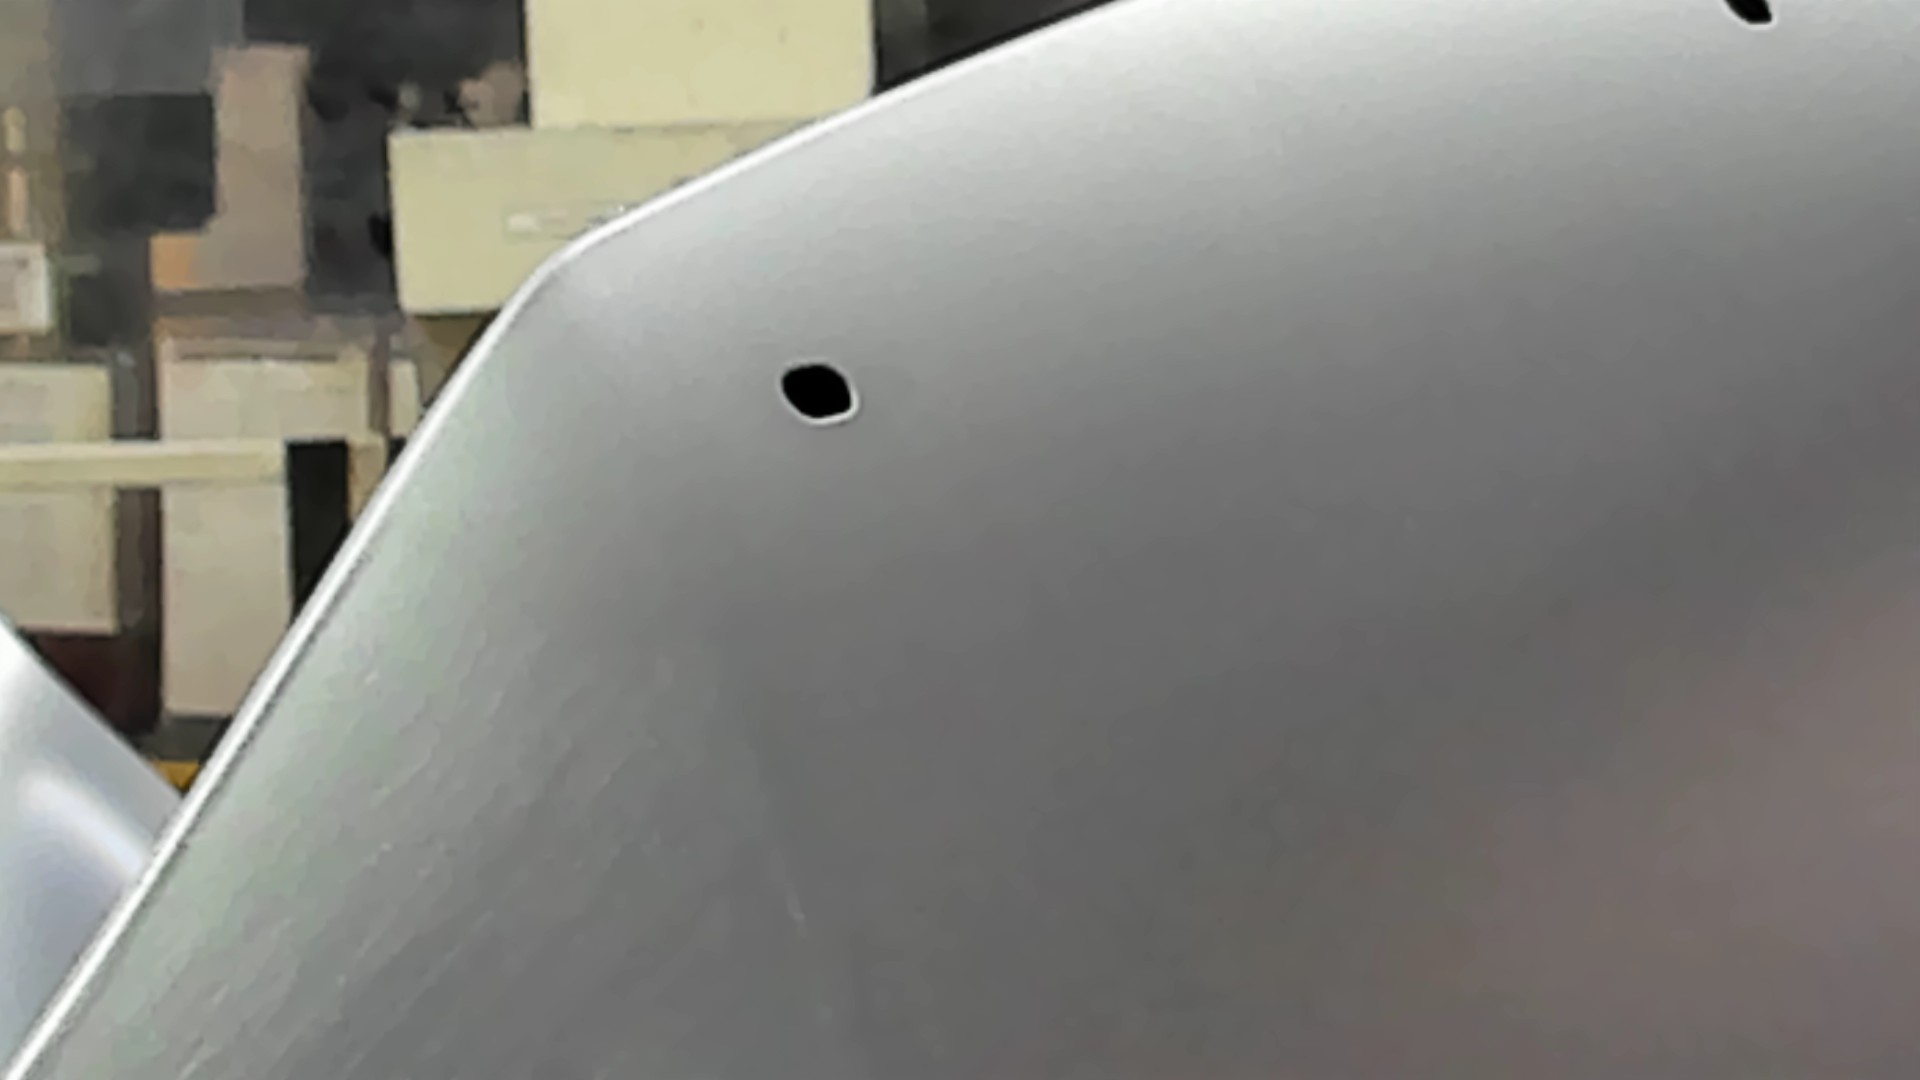amorfo: (773, 356, 861, 429), (1718, 1, 1780, 28)
